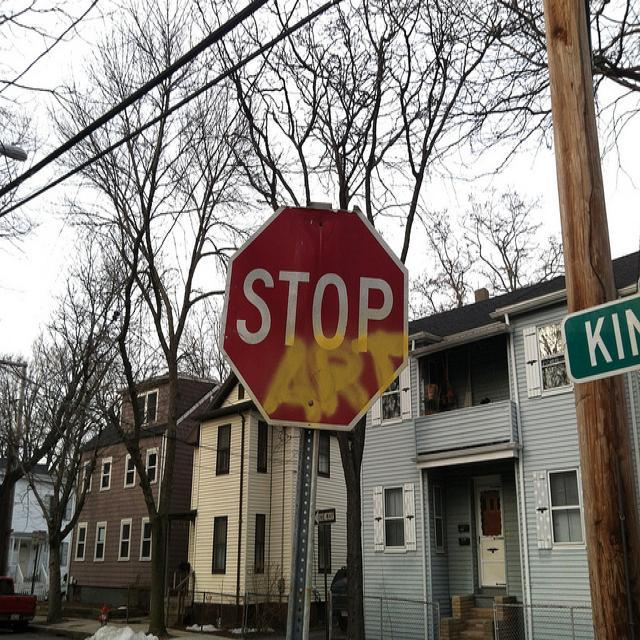fire_hydrant: (98, 602, 108, 626)
